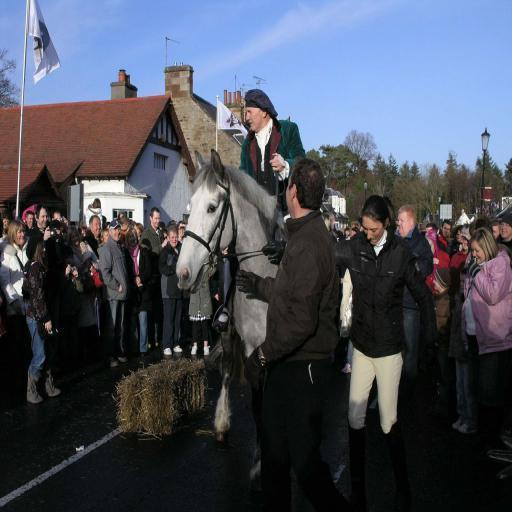Horse: (174, 147, 285, 483)
